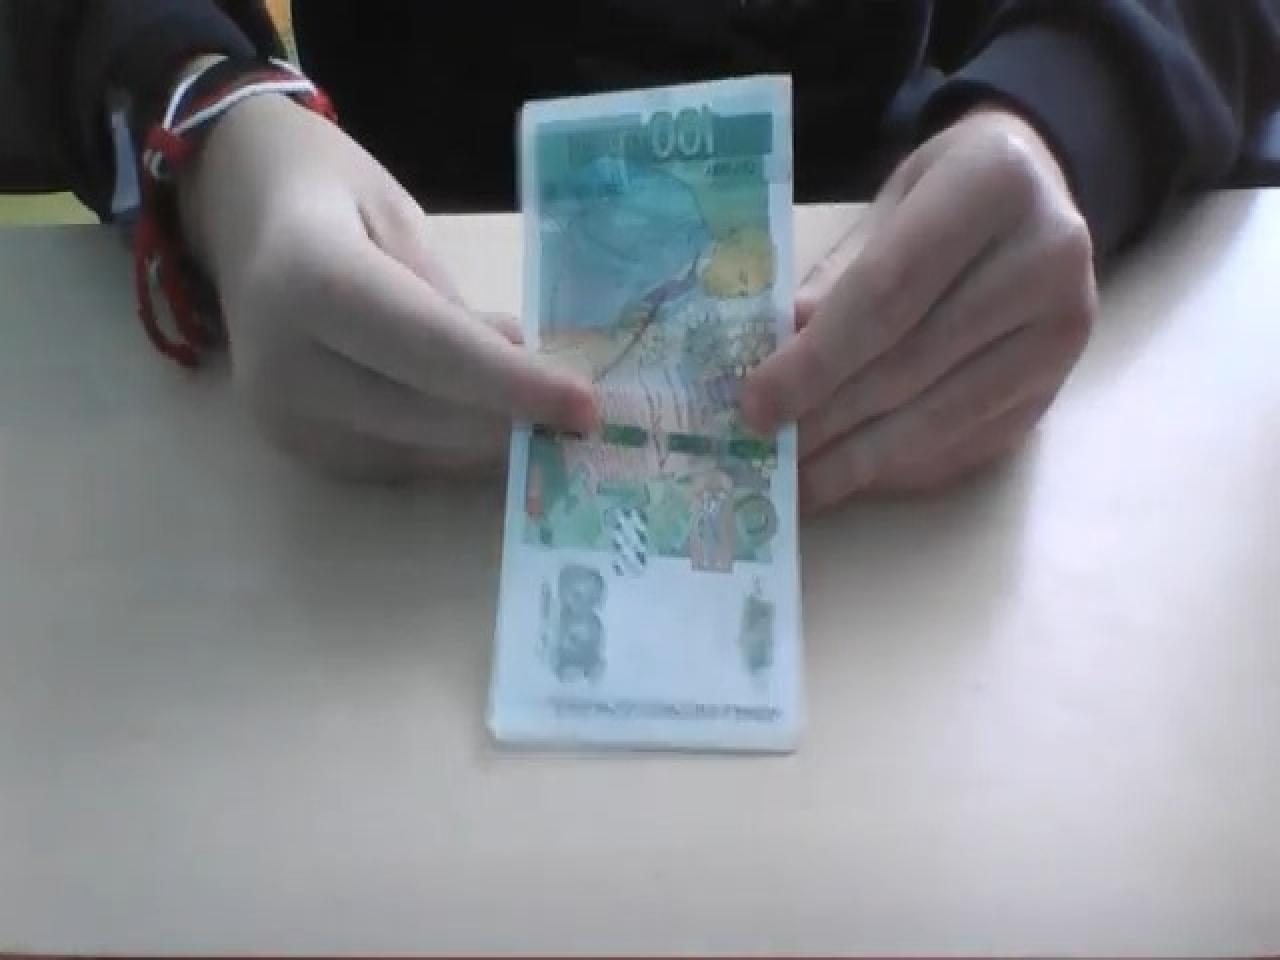100leva: (486, 70, 808, 751)
